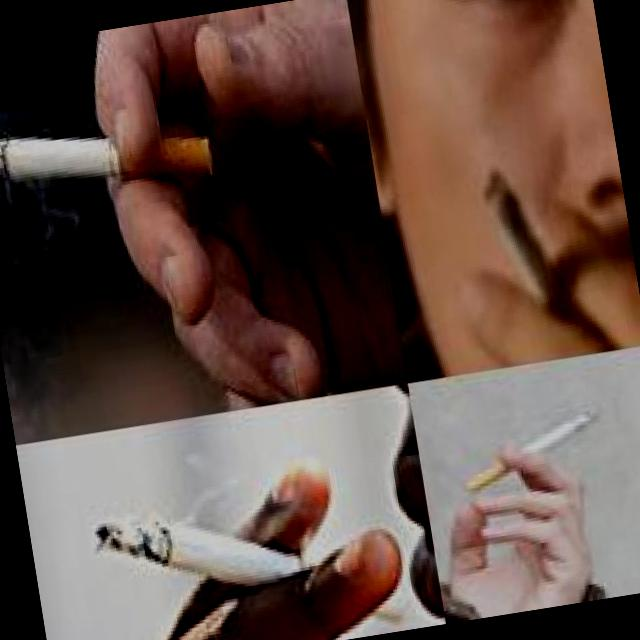cigarette: (89, 472, 410, 640), (0, 103, 217, 217), (478, 156, 590, 346), (457, 402, 612, 492)
